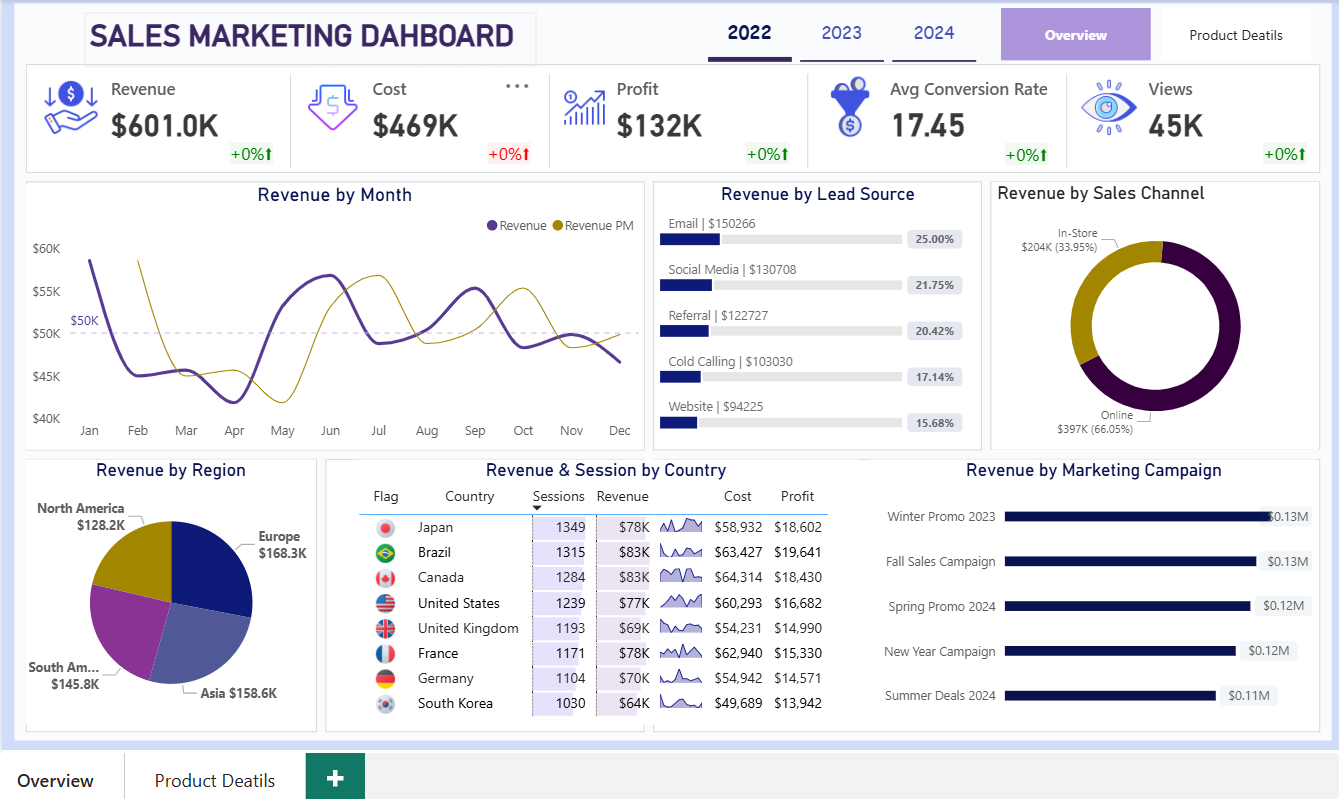

This screenshot's page, from the dashboard's own definition file:
{"tool":"powerbi","page":{"name":"Overview","canvas":[1280,720],"ordinal":0},"visuals":[{"type":"advancedSlicerVisual","fields":{"Values":["Calendar.Year"]},"box":[668.3,0,268.3,65],"z":0},{"type":"cardVisual","fields":{"Data":["All Measures.Revenue","All Measures.Cost","All Measures.Profit","All Measures.Average Conversion rate","All Measures.Views"]},"box":[23.3,65.3,1234,100],"z":1000},{"type":"lineChart","title":"Revenue by Month","fields":{"Y":["All Measures.Revenue","All Measures.Revenue PM"],"Category":["Calendar.Month"]},"box":[22.9,175.7,590,254.3],"z":2000},{"type":"clusteredBarChart","title":"Revenue by Lead Source","fields":{"Y":["All Measures.Basr zero","All Measures.Whole","All Measures.Revenue % of Lead"],"Category":["dimLeadSource.Lead Source"]},"box":[623,176,312,254],"z":3000},{"type":"donutChart","fields":{"Y":["All Measures.Revenue"],"Category":["dimChannel.Sales Channel"]},"box":[945,175,311.7,255],"z":4000},{"type":"clusteredBarChart","fields":{"Category":["dimMarketingCampaign.Marketing Campaign"],"Y":["All Measures.Revenue"]},"box":[830,440,426.7,253.3],"z":5000},{"type":"pieChart","fields":{"Category":["dimCountry.Region"],"Y":["All Measures.Revenue"]},"box":[23.3,440,276.7,253.3],"z":6000},{"type":"tableEx","title":"Revenue & Session by Country","fields":{"Values":["dimCountry.Country Flag.flag","dimCountry.Country","All Measures.Sessions","All Measures.Revenue","All Measures.Revenue Sparkline","All Measures.Cost","All Measures.Profit"]},"box":[335,440,483.3,253.3],"z":7000},{"type":"textbox","box":[78.3,13.3,431.7,51.7],"z":8000},{"type":"pageNavigator","box":[953.3,8.3,296.7,50],"z":9000}]}

Visuals, with their boxes on the page's 1280x720 design canvas (x1, y1, x2, y2). These are canvas units, not pixel positions in the 1339x799 screenshot, which may show the page scaled, cropped or inside an application window:
advancedSlicerVisual - Calendar.Year: 668, 0, 937, 65
cardVisual - All Measures.Revenue x All Measures.Cost: 23, 65, 1257, 165
"Revenue by Month" lineChart: 23, 176, 613, 430
"Revenue by Lead Source" clusteredBarChart: 623, 176, 935, 430
donutChart - All Measures.Revenue x dimChannel.Sales Channel: 945, 175, 1257, 430
clusteredBarChart - dimMarketingCampaign.Marketing Campaign x All Measures.Revenue: 830, 440, 1257, 693
pieChart - dimCountry.Region x All Measures.Revenue: 23, 440, 300, 693
"Revenue & Session by Country" tableEx: 335, 440, 818, 693
textbox: 78, 13, 510, 65
pageNavigator: 953, 8, 1250, 58
